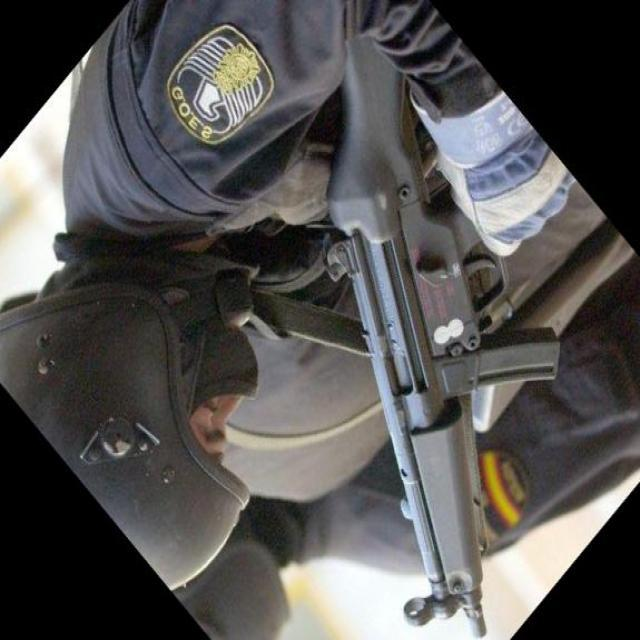weapon: (328, 33, 562, 640)
